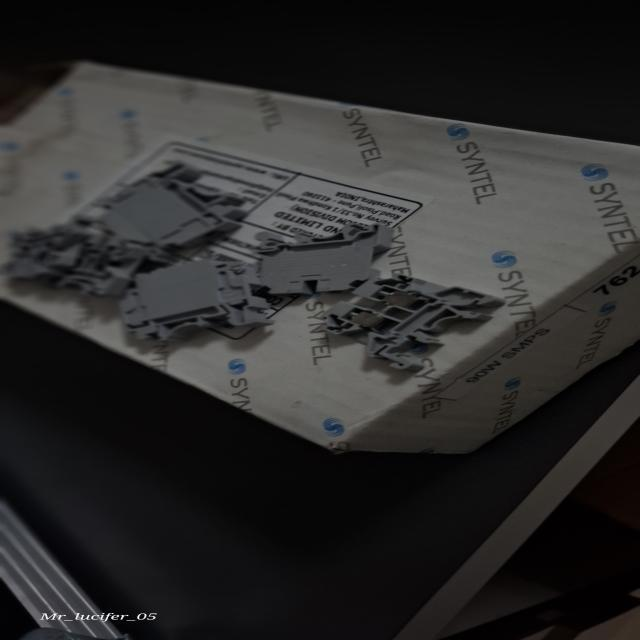Inverted: (240, 222, 410, 293)
Pass: (306, 272, 500, 376)
